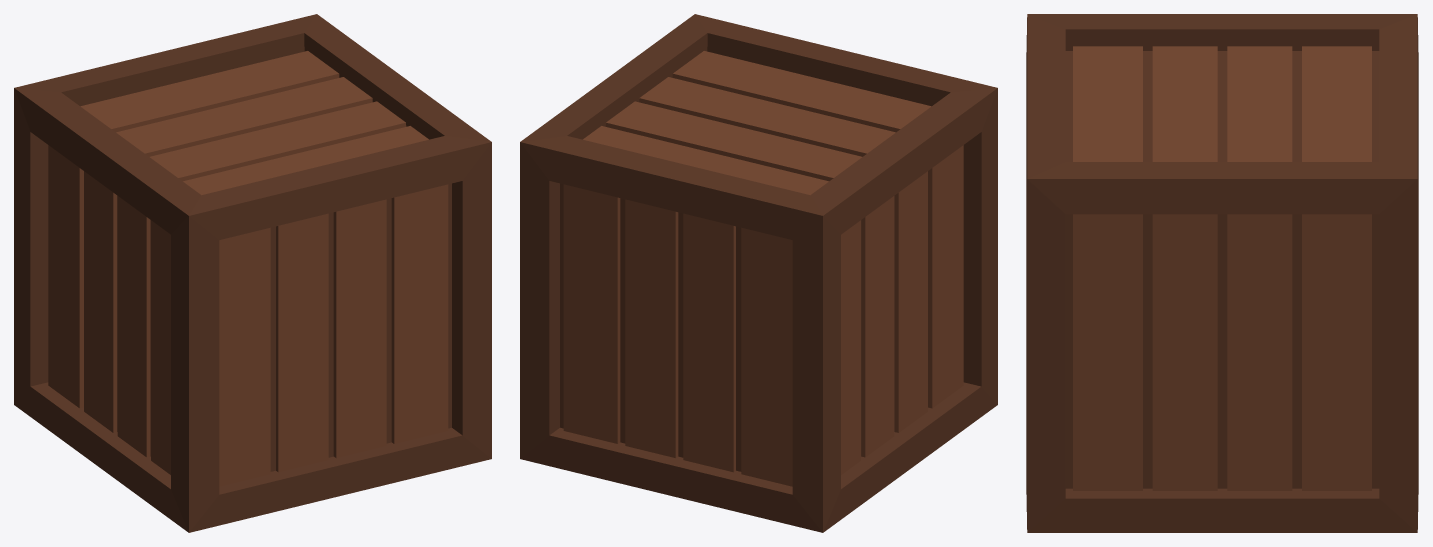
The model's file is Kiste.fbx.
3 views of the same model, side by side, from view 1: azimuth 30°, elevation 25°; view 2: azimuth 150°, elevation 25°; view 3: azimuth 270°, elevation 25° (orthographic). The views are drawn at different scales.
Visible parts, largest first — view 1: Kiste; view 2: Kiste; view 3: Kiste.
Boxes of the visible parts, left/top/right/bottom form: Kiste: left=14, top=14, right=491, bottom=532; Kiste: left=520, top=14, right=997, bottom=532; Kiste: left=1026, top=14, right=1418, bottom=532.
Bounding box in the file's own units: 200 × 200 × 200.
